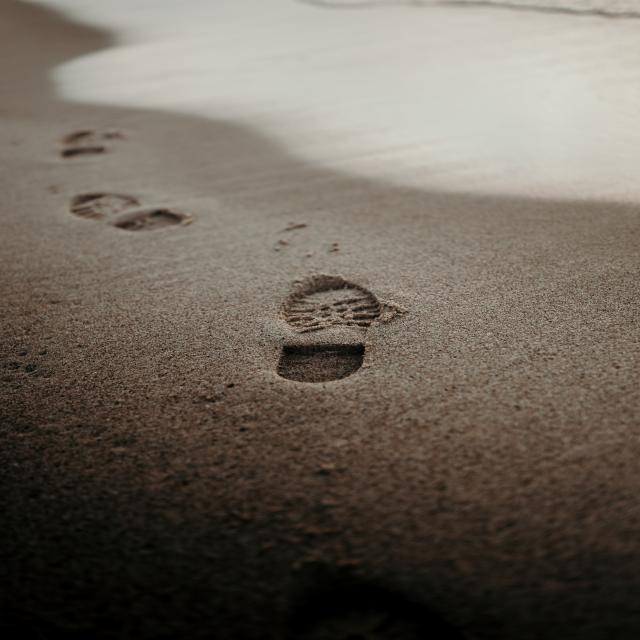human_footprint: (56, 88, 449, 428)
